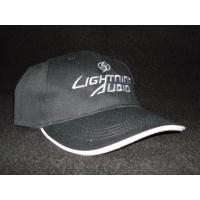hat: (14, 51, 186, 156)
